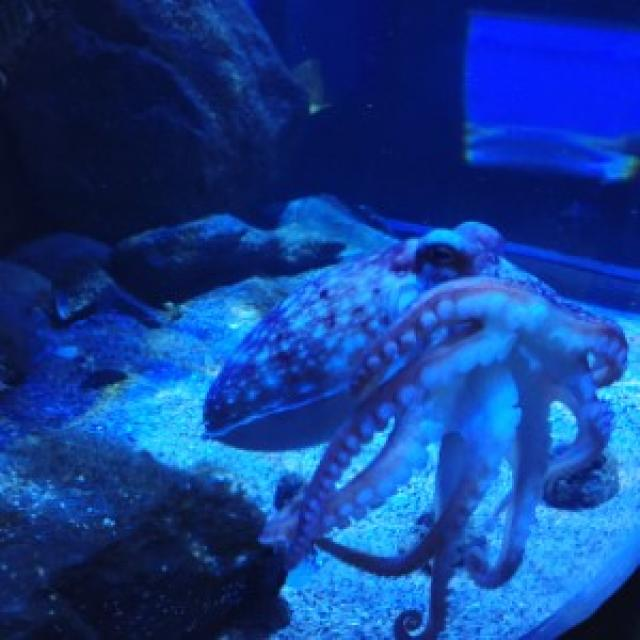Octo: (225, 207, 640, 598)
